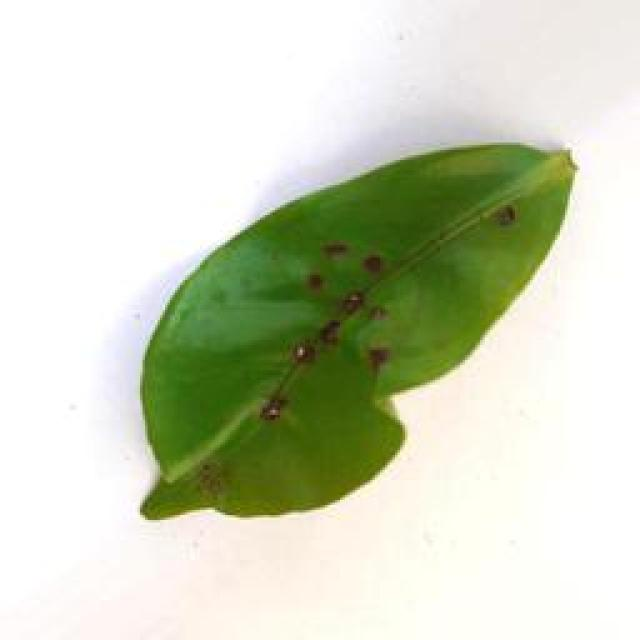Helopeltis: (126, 137, 579, 531)
